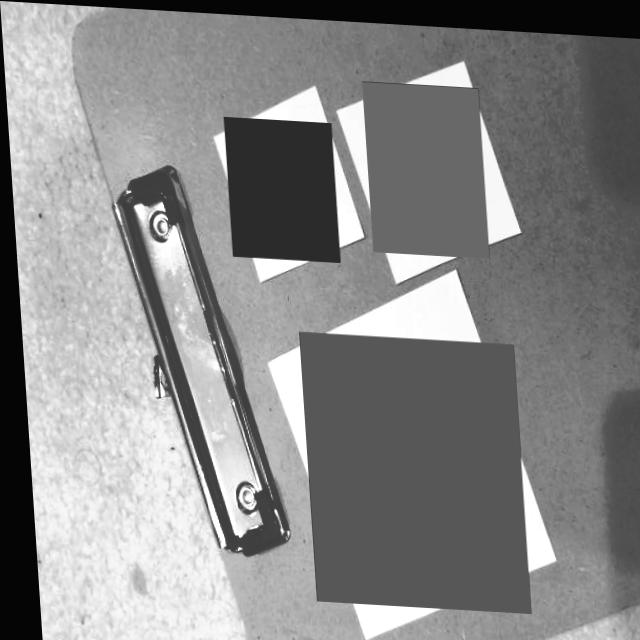qr_code: (295, 327, 523, 607), (361, 76, 486, 252), (222, 113, 337, 258)
